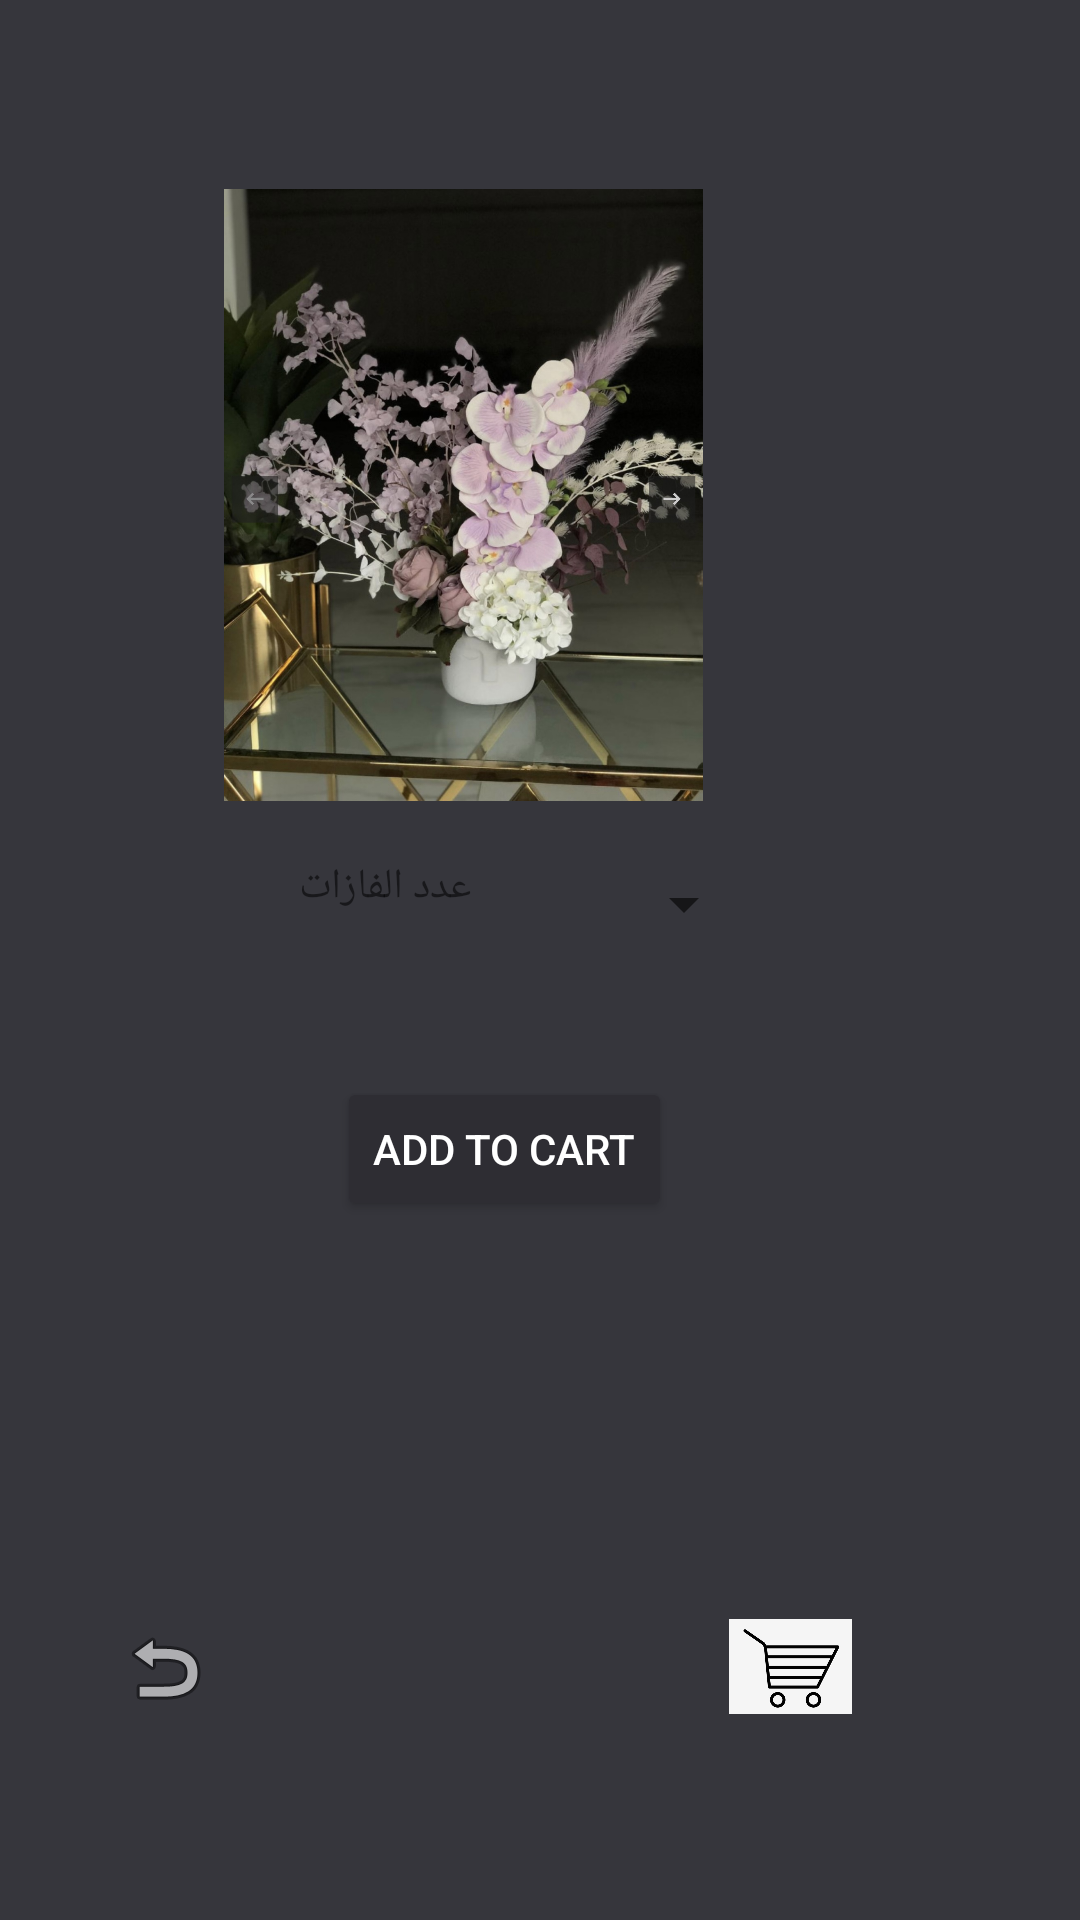

Point at icon controls on the screen. Image size 1080*1920, points as (x=x, y=y).
revert: (x=166, y=1668)
